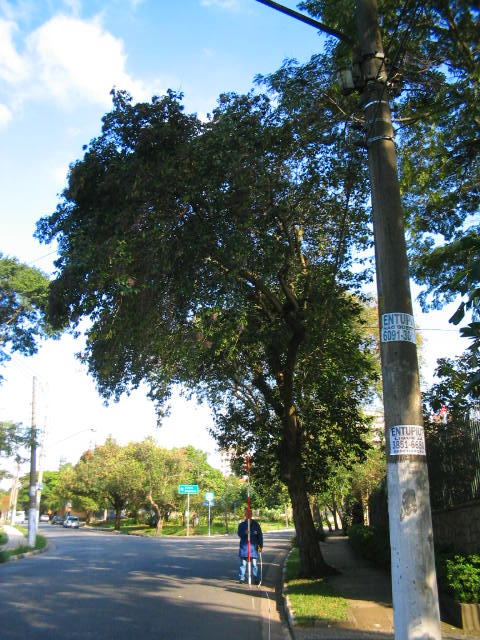crown: (38, 87, 365, 418)
stem: (270, 421, 341, 576), (109, 509, 126, 528)
stick: (241, 455, 256, 586)
tree: (35, 86, 368, 578), (51, 435, 149, 529)
